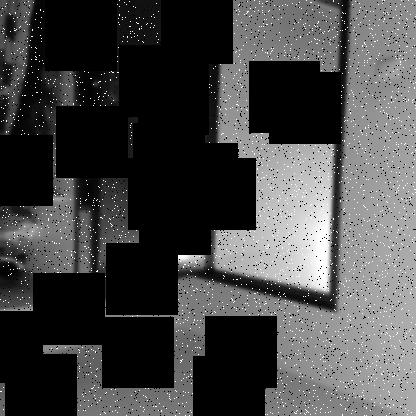Porte: (88, 1, 352, 313)
